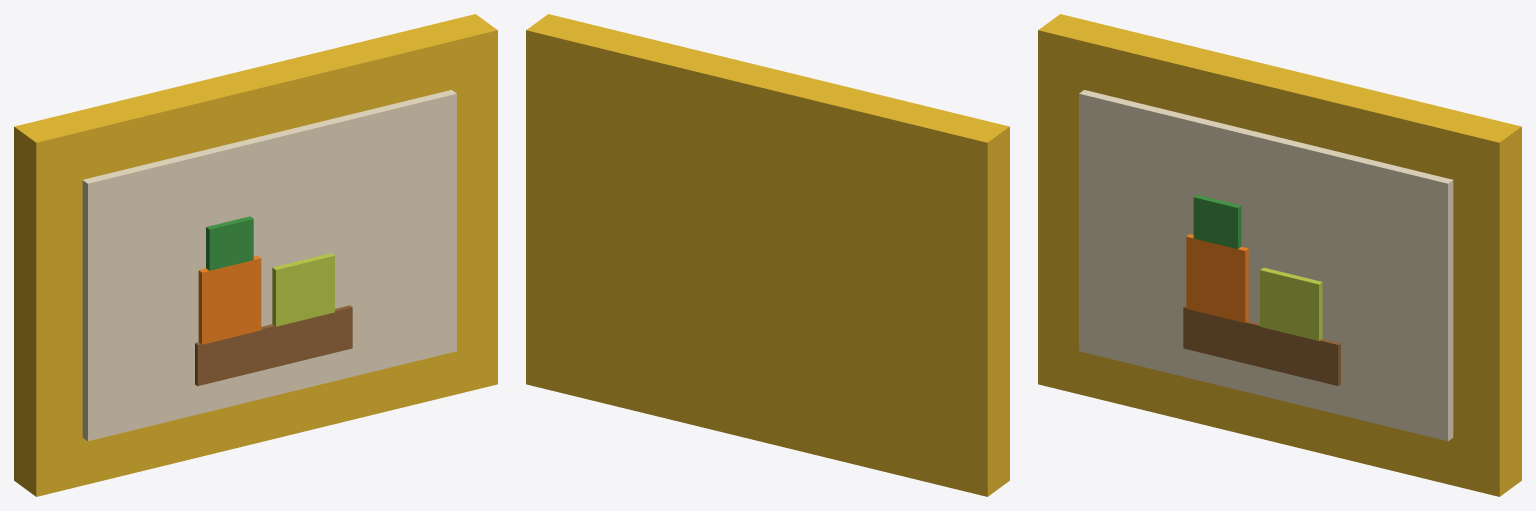
File: loot_painting.glb
3 renders of one model, left to right at view 1: azimuth 30°, elevation 25°; view 2: azimuth 150°, elevation 25°; view 3: azimuth 330°, elevation 25°, orthographic.
Visible parts, largest first — view 1: item; view 2: item; view 3: item.
Part boxes in pixels (box(x1,y1,x2,y2)): item: box(14, 14, 497, 496); item: box(526, 14, 1009, 496); item: box(1038, 14, 1521, 496).
Size of the model in its own units: 0.3 by 0.22 by 0.035.
Materials: 1 (1 with a texture image).
